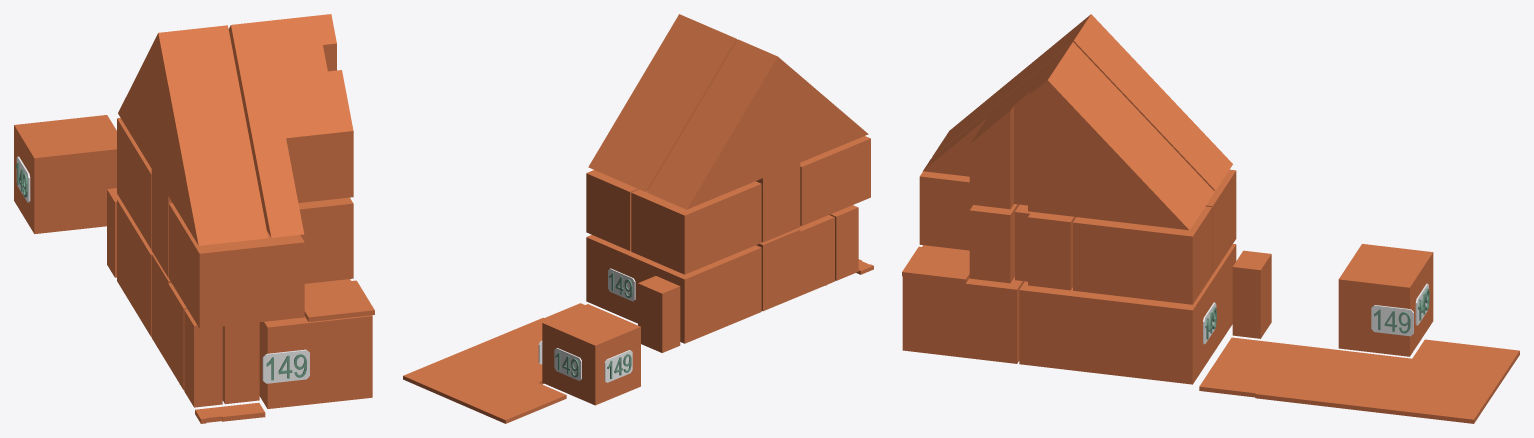
3 renders of one model, left to right at view 1: azimuth 30°, elevation 25°; view 2: azimuth 150°, elevation 25°; view 3: azimuth 270°, elevation 25°, orthographic. The views are drawn at different scales.
Parts seen in each view (by area): view 1: g_6, g_7, g_11, g_3, g_1, g_2, g_8, g_5, g_0, g_9, g_15, g_14 (+3 smaller); view 2: g_7, g_6, g_0, g_16, g_9, g_3, g_2, g_11, g_8, g_10, g_4, g_14 (+4 smaller); view 3: g_6, g_16, g_0, g_10, g_1, g_7, g_3, g_11, g_13, g_4, g_9, g_15 (+2 smaller).
Part boxes in pixels (x1=…): g_6: x1=228, y1=14, x2=353, y2=237; g_7: x1=118, y1=25, x2=268, y2=245; g_11: x1=169, y1=197, x2=353, y2=328; g_3: x1=14, y1=115, x2=116, y2=234; g_1: x1=259, y1=279, x2=372, y2=408; g_2: x1=151, y1=253, x2=259, y2=404; g_8: x1=151, y1=29, x2=198, y2=195; g_5: x1=184, y1=309, x2=222, y2=407; g_0: x1=117, y1=199, x2=153, y2=336; g_9: x1=117, y1=118, x2=151, y2=249; g_15: x1=304, y1=280, x2=374, y2=321; g_14: x1=151, y1=170, x2=172, y2=277; g_7: x1=647, y1=39, x2=868, y2=209; g_6: x1=588, y1=14, x2=737, y2=191; g_0: x1=586, y1=235, x2=761, y2=343; g_16: x1=403, y1=303, x2=584, y2=423; g_9: x1=631, y1=181, x2=761, y2=274; g_3: x1=542, y1=304, x2=640, y2=405; g_2: x1=756, y1=215, x2=834, y2=311; g_11: x1=800, y1=136, x2=870, y2=226; g_8: x1=744, y1=48, x2=800, y2=178; g_10: x1=586, y1=170, x2=638, y2=250; g_4: x1=638, y1=276, x2=680, y2=352; g_14: x1=756, y1=163, x2=800, y2=242; g_6: x1=923, y1=42, x2=1214, y2=230; g_16: x1=1199, y1=337, x2=1519, y2=423; g_0: x1=1019, y1=244, x2=1236, y2=384; g_10: x1=1073, y1=206, x2=1212, y2=304; g_1: x1=902, y1=245, x2=1024, y2=363; g_7: x1=932, y1=27, x2=1232, y2=190; g_3: x1=1338, y1=244, x2=1433, y2=356; g_11: x1=919, y1=171, x2=1019, y2=283; g_13: x1=1015, y1=204, x2=1075, y2=290; g_4: x1=1232, y1=250, x2=1271, y2=338; g_9: x1=1206, y1=169, x2=1236, y2=274; g_15: x1=902, y1=246, x2=969, y2=283.
Size of the model in its own units: 10.2 by 10.25 by 19.65.
